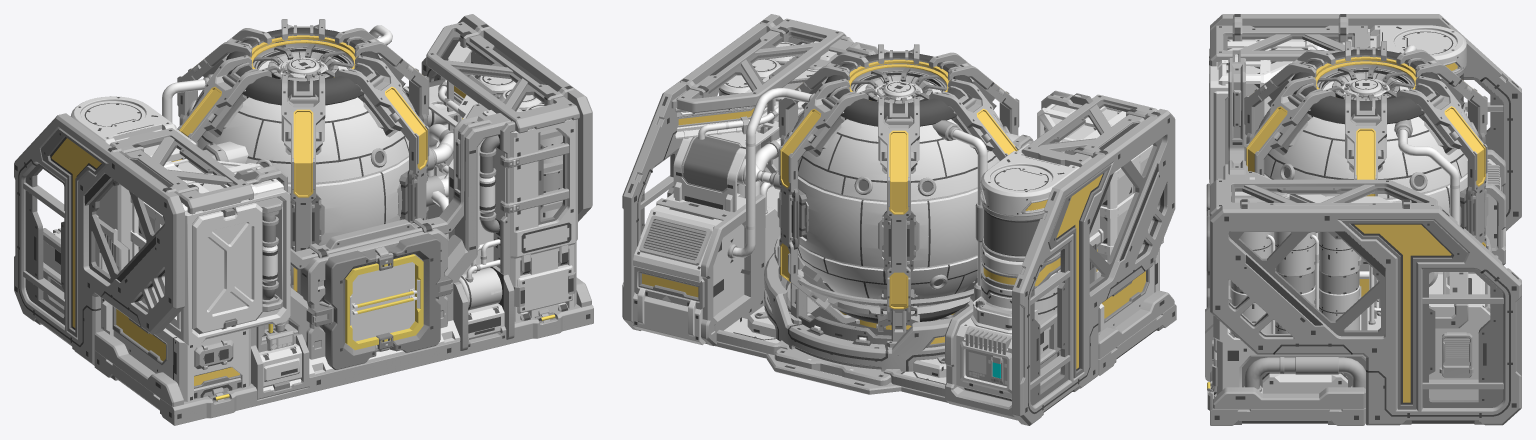
File: Prototech_Reactor.fbx
3 views of the same model, side by side, from view 1: azimuth 30°, elevation 25°; view 2: azimuth 150°, elevation 25°; view 3: azimuth 270°, elevation 25° (orthographic). The views are drawn at different scales.
Parts seen in each view (by area): view 1: Cube.105, Prototech_Reactor, Cube.113, Plane.028, Prot_Assembler_PaintedColorable_02.015, Prot_Assembler_PaintedDarker_06.001, Cylinder.047, detector_conveyor_section_002, Prot_Assembler_PaintedVeryDark_04.005, Cube.119, Cube.186, Cylinder.095 (+48 smaller); view 2: Cube.105, Prototech_Reactor, Cube.256, Cube.118, Plane.028, EMC Cylinder.013, Cylinder.052, 2_ReactorPole01, Cube.119, 2_ReactorPole01.001, Cylinder.095, Cube.266 (+48 smaller); view 3: Cube.105, Cube.119, Prototech_Reactor, Plane.028, Cylinder.120, Cube.110, Cylinder.095, Cylinder.047, 2_ReactorPole01.001, Cube.118, Cube.169, Cube.256 (+36 smaller).
Part boxes in pixels (<box>): Cube.105: <box>14,14,592,365</box>; Prototech_Reactor: <box>191,88,427,275</box>; Cube.113: <box>96,129,290,401</box>; Plane.028: <box>109,22,579,214</box>; Prot_Assembler_PaintedColorable_02.015: <box>192,202,262,334</box>; Prot_Assembler_PaintedDarker_06.001: <box>94,304,593,425</box>; Cylinder.047: <box>427,119,577,321</box>; detector_conveyor_section_002: <box>345,254,423,350</box>; Prot_Assembler_PaintedVeryDark_04.005: <box>324,233,440,369</box>; Cube.119: <box>25,74,543,325</box>; Cube.186: <box>251,113,510,352</box>; Cylinder.095: <box>226,28,380,105</box>; Cube.105: <box>622,14,1175,425</box>; Prototech_Reactor: <box>780,110,1004,306</box>; Cube.256: <box>656,194,1060,420</box>; Cube.118: <box>632,108,803,345</box>; Plane.028: <box>676,18,1157,167</box>; EMC Cylinder.013: <box>764,253,953,371</box>; Cylinder.052: <box>981,151,1079,330</box>; 2_ReactorPole01: <box>876,96,919,331</box>; Cube.119: <box>640,138,1162,405</box>; 2_ReactorPole01.001: <box>779,78,868,324</box>; Cylinder.095: <box>824,52,972,323</box>; Cube.266: <box>777,79,861,324</box>; Cube.105: <box>1210,14,1521,425</box>; Cube.119: <box>1228,39,1503,407</box>; Prototech_Reactor: <box>1257,108,1485,214</box>; Plane.028: <box>1210,25,1437,216</box>; Cylinder.120: <box>1230,232,1359,338</box>; Cube.110: <box>1350,223,1453,404</box>; Cylinder.095: <box>1291,49,1440,124</box>; Cylinder.047: <box>1213,314,1365,395</box>; 2_ReactorPole01.001: <box>1396,76,1486,246</box>; Cube.118: <box>1361,272,1490,399</box>; Cube.169: <box>1213,387,1365,408</box>; Cube.256: <box>1205,149,1505,381</box>.
Size of what is drawn, in the model's own units: 755 by 453 by 508.
